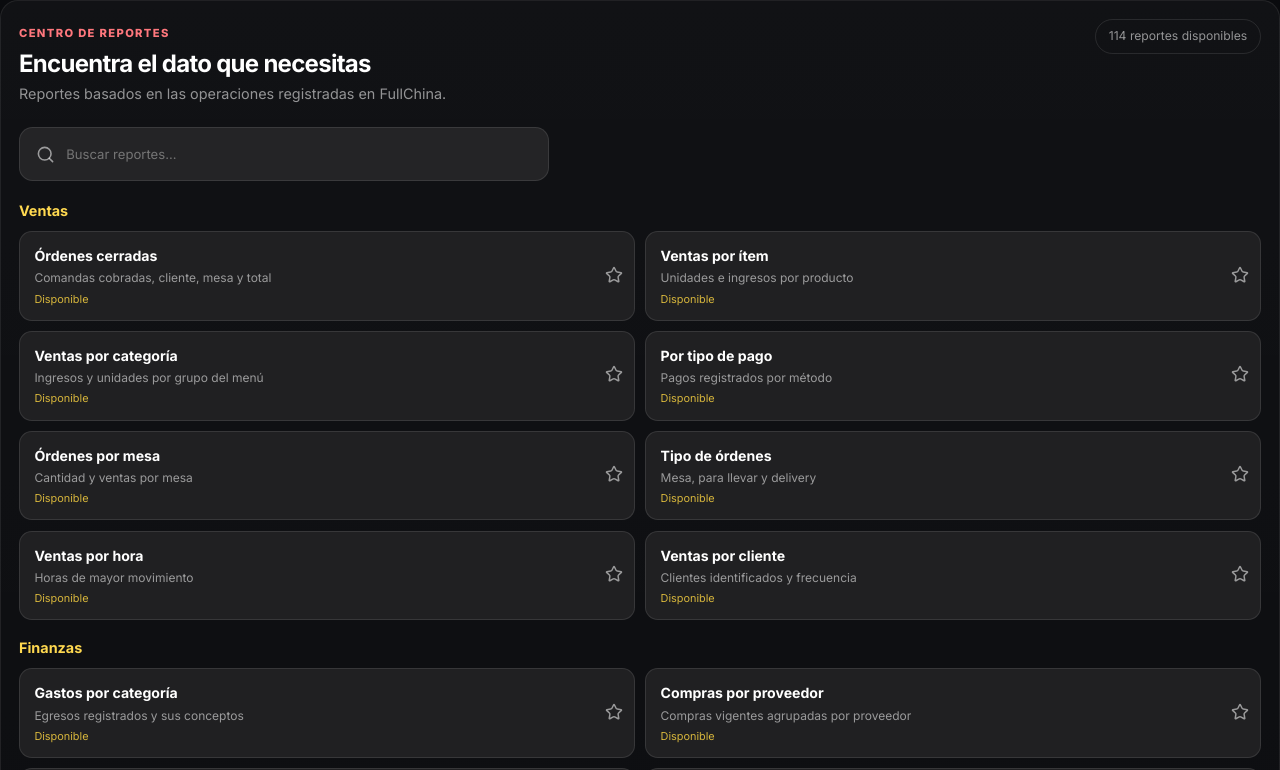
Test case: Centro de reportes › abre un reporte, muestra estado vacío y consulta todas las páginas
Click the button "Órdenes cerradas" at coordinates (96, 256), box x1=20 y1=232 x2=593 y2=320
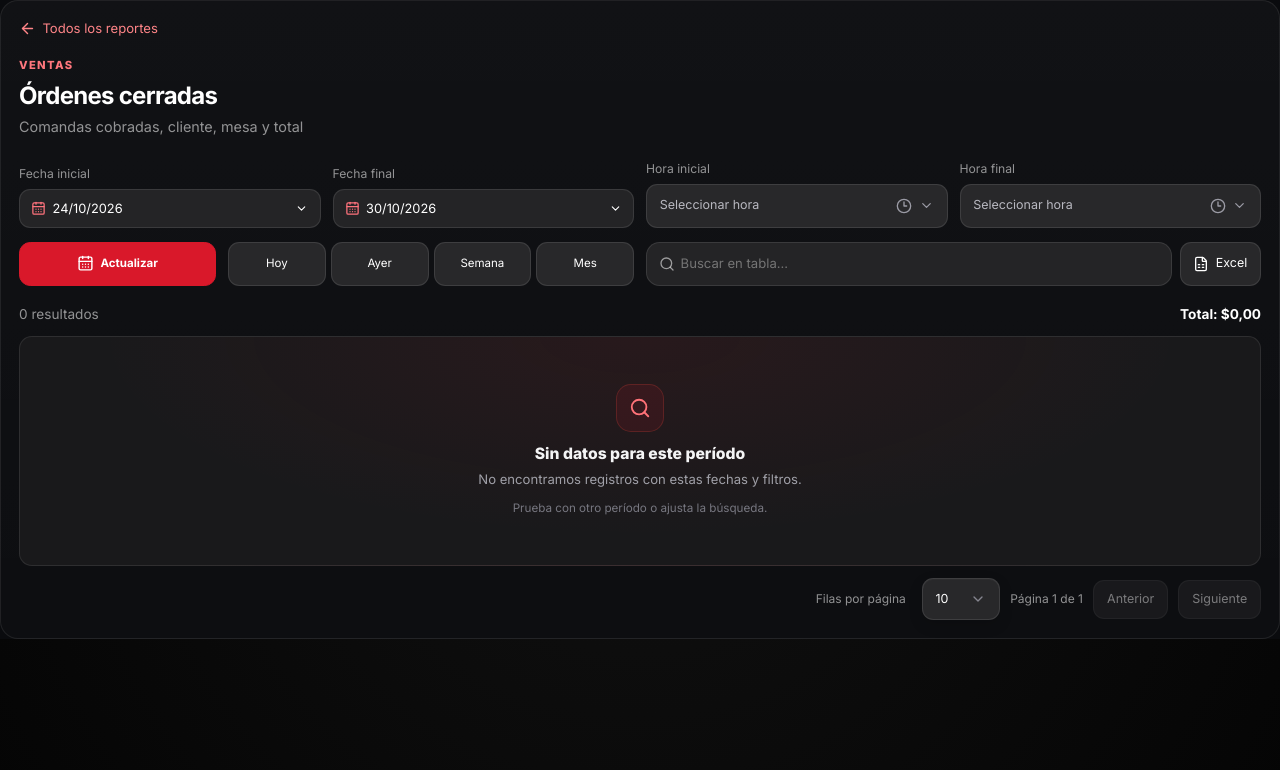
Check: the heading "Sin datos para este período" is shown, box x1=535 y1=444 x2=745 y2=463
Click the button "Todos los reportes" at coordinates (88, 35), box x1=19 y1=19 x2=158 y2=52
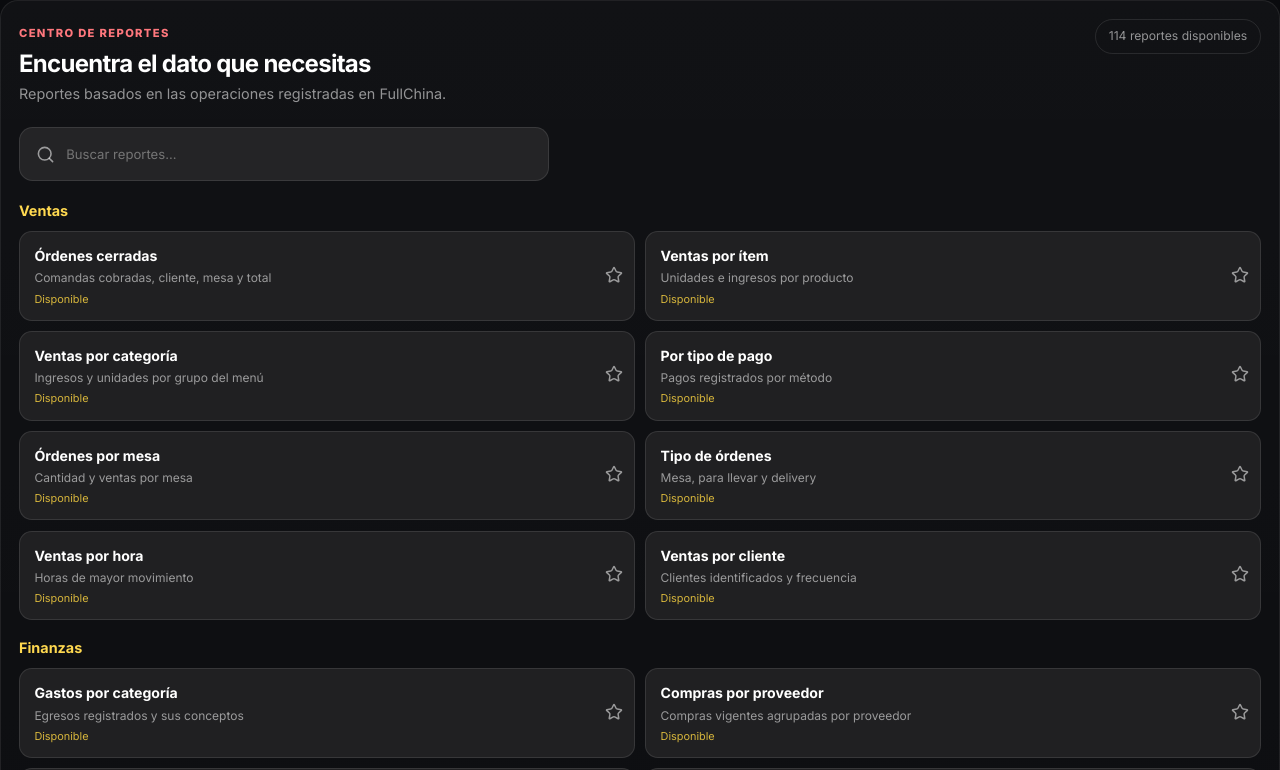
Check: the text "Encuentra el dato que necesitas" is shown, box x1=19 y1=49 x2=371 y2=78
